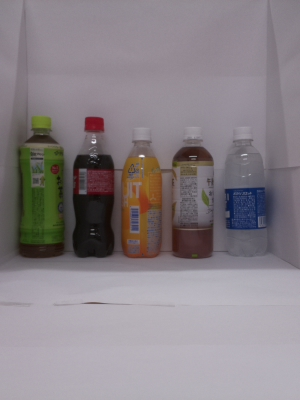おーいお茶: (11, 112, 70, 263)
グレープフルーツスカッシュ: (118, 123, 164, 266)
コーラ: (68, 113, 117, 263)
ポカリスエット: (220, 123, 269, 265)
午後の紅茶: (166, 125, 218, 265)
